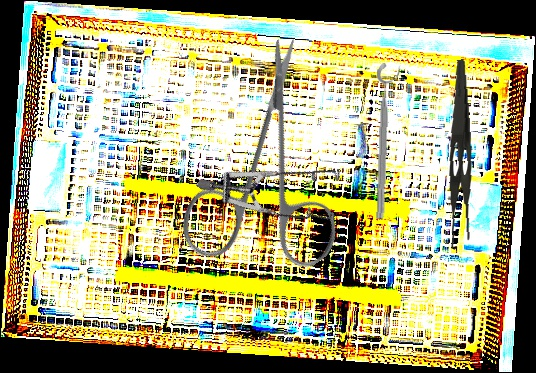Dressing Forceps: (435, 59, 479, 249)
Fixation Ring: (372, 62, 402, 220)
Iris Scissors: (121, 31, 411, 319)
Speculum: (195, 105, 361, 266)
